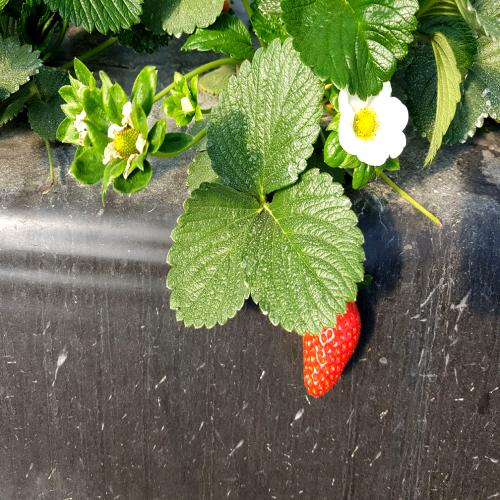ripe: (294, 271, 367, 413)
